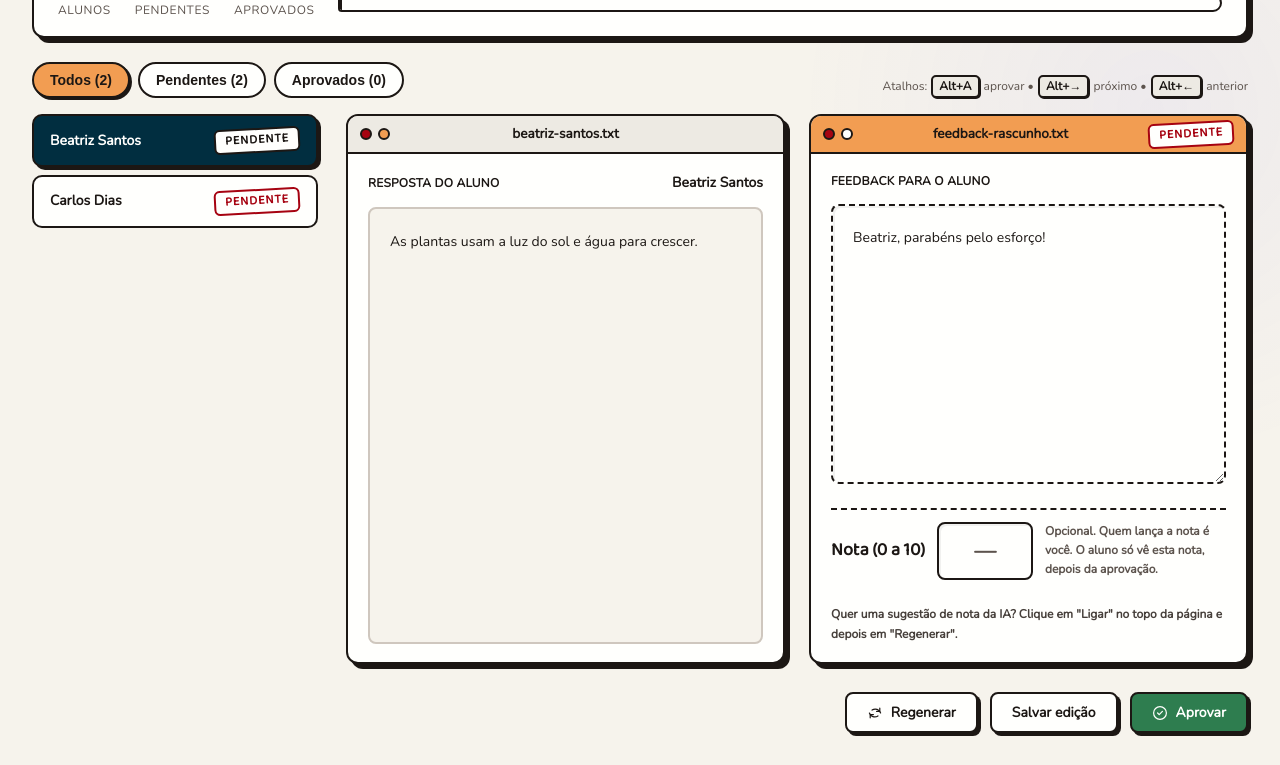
Test case: ReviewDashboard — Recursos da Fase 6D › avança automaticamente para o próximo aluno não aprovado ao clicar em Aprovar
(page scrolled)
Expected: the 1st text "Beatriz Santos" is shown, [50,130,141,152]
// Clica em Aprovar na Beatriz
Click the button "Aprovar".
click(1189, 713)  # box [1130,692,1248,733]
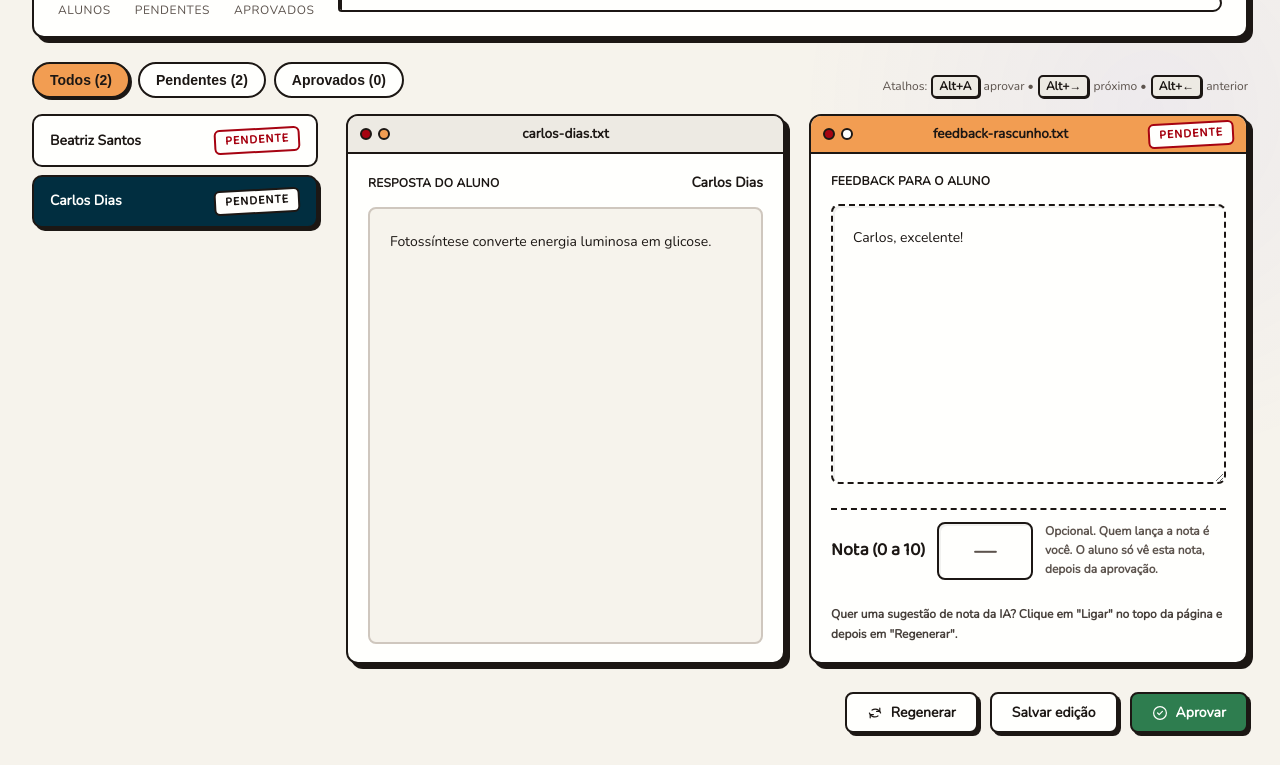
Result: the text "Fotossíntese converte energia luminosa em glicose." is shown at [368,207,763,644]
